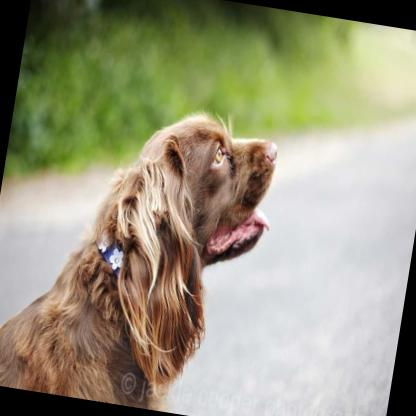Sussex_spaniel: (0, 74, 288, 416)
